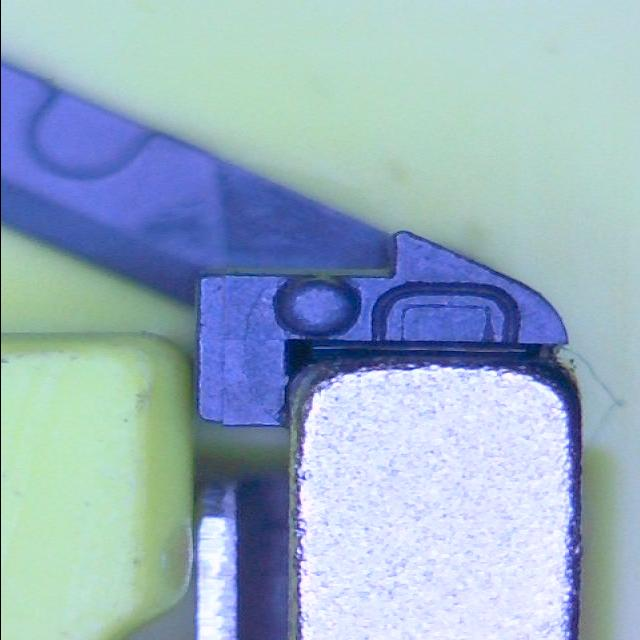lacking: (368, 280, 522, 348)
